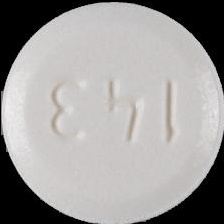0555-9064: (0, 0, 224, 224)
